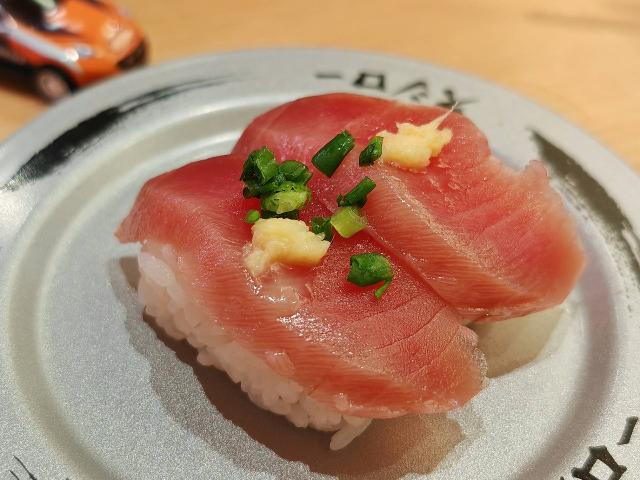janwhite: (0, 141, 135, 480), (127, 413, 640, 480), (573, 121, 640, 433), (277, 49, 568, 107), (95, 77, 255, 144)
